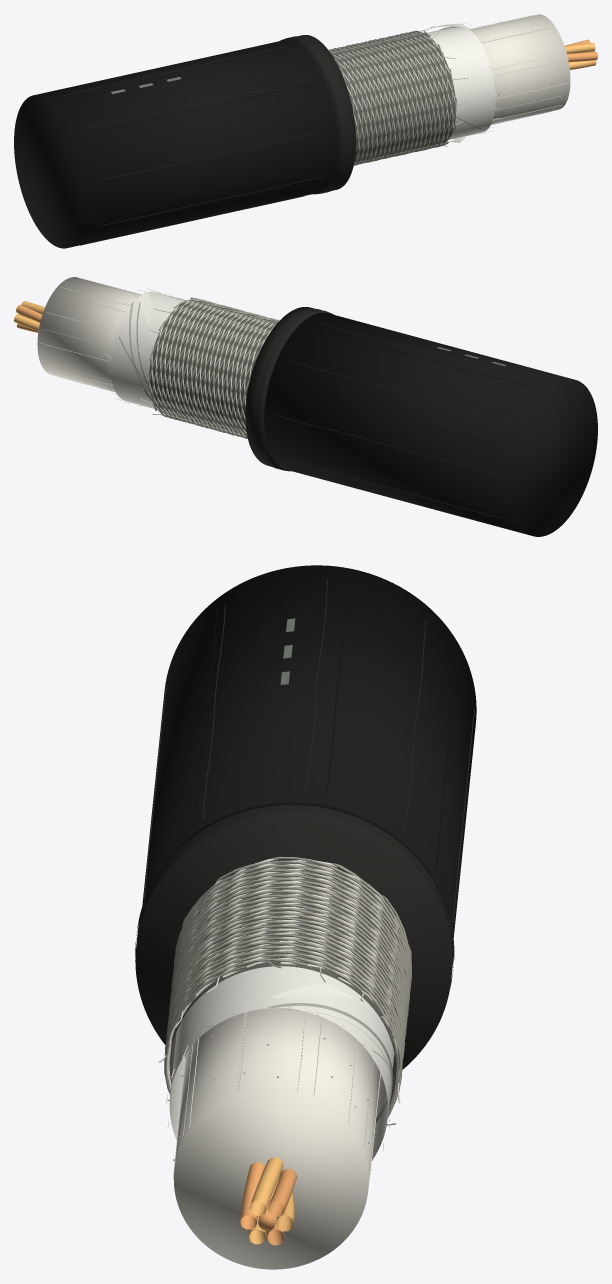
The model's file is rf-lmr240uf-macro.glb.
The picture shows the model from 3 angles, top to bottom: view 1: azimuth 30°, elevation 25°; view 2: azimuth 150°, elevation 25°; view 3: azimuth 270°, elevation 25°; orthographic projection. The views are drawn at different scales.
Visible parts, largest first — view 1: macro jacket body, macro dielectric exposed core, shadow seen through braid windows, continuous foil sleeve under braid, thick jacket cut wall, rounded jacket cut lip, macro braid shadow carrier 05 strand 1, macro braid shadow carrier 06 strand 1, macro braid shadow carrier 08 strand 1, macro braid shadow carrier 07 strand 1, macro braid shadow carrier 04 strand 1, macro braid shadow carrier 03 strand 1 (+6 smaller); view 2: macro jacket body, macro dielectric exposed core, shadow seen through braid windows, continuous foil sleeve under braid, thick jacket cut wall, rounded jacket cut lip, macro braid shadow carrier 03 strand 1, macro braid shadow carrier 02 strand 1, macro braid shadow carrier 01 strand 1, macro braid shadow carrier 12 strand 1, macro braid shadow carrier 04 strand 1, macro braid shadow carrier 05 strand 1 (+6 smaller); view 3: macro jacket body, macro dielectric exposed core, thick jacket cut wall, continuous foil sleeve under braid, shadow seen through braid windows, rounded jacket cut lip, macro braid shadow carrier 05 strand 2, macro braid shadow carrier 10 strand 2, macro braid shadow carrier 11 strand 2, macro braid shadow carrier 07 strand 2, macro braid shadow carrier 09 strand 2, macro braid shadow carrier 06 strand 2 (+7 smaller).
Part boxes in pixels (bbox=[...]): macro jacket body: bbox=[14, 40, 336, 248]; macro dielectric exposed core: bbox=[470, 14, 570, 124]; shadow seen through braid windows: bbox=[332, 33, 455, 161]; continuous foil sleeve under braid: bbox=[427, 27, 495, 139]; thick jacket cut wall: bbox=[280, 35, 355, 194]; rounded jacket cut lip: bbox=[285, 36, 347, 193]; macro braid shadow carrier 05 strand 1: bbox=[350, 32, 430, 165]; macro braid shadow carrier 06 strand 1: bbox=[355, 31, 434, 165]; macro braid shadow carrier 08 strand 1: bbox=[363, 31, 443, 163]; macro braid shadow carrier 07 strand 1: bbox=[358, 31, 439, 164]; macro braid shadow carrier 04 strand 1: bbox=[346, 33, 425, 163]; macro braid shadow carrier 03 strand 1: bbox=[342, 35, 421, 159]; macro jacket body: bbox=[264, 312, 597, 536]; macro dielectric exposed core: bbox=[37, 277, 140, 391]; shadow seen through braid windows: bbox=[149, 300, 276, 435]; continuous foil sleeve under braid: bbox=[110, 291, 184, 408]; thick jacket cut wall: bbox=[245, 307, 333, 471]; rounded jacket cut lip: bbox=[253, 308, 328, 470]; macro braid shadow carrier 03 strand 1: bbox=[157, 305, 277, 431]; macro braid shadow carrier 02 strand 1: bbox=[161, 306, 279, 432]; macro braid shadow carrier 01 strand 1: bbox=[166, 307, 278, 433]; macro braid shadow carrier 12 strand 1: bbox=[170, 308, 276, 435]; macro braid shadow carrier 04 strand 1: bbox=[152, 304, 274, 430]; macro braid shadow carrier 05 strand 1: bbox=[148, 302, 269, 428]; macro jacket body: bbox=[142, 565, 476, 937]; macro dielectric exposed core: bbox=[174, 1008, 379, 1269]; thick jacket cut wall: bbox=[135, 802, 453, 1069]; continuous foil sleeve under braid: bbox=[169, 966, 394, 1160]; shadow seen through braid windows: bbox=[169, 862, 397, 1105]; rounded jacket cut lip: bbox=[135, 805, 454, 986]; macro braid shadow carrier 05 strand 2: bbox=[167, 894, 411, 1090]; macro braid shadow carrier 10 strand 2: bbox=[166, 865, 409, 1048]; macro braid shadow carrier 11 strand 2: bbox=[165, 869, 409, 1094]; macro braid shadow carrier 07 strand 2: bbox=[168, 863, 411, 1030]; macro braid shadow carrier 09 strand 2: bbox=[165, 860, 409, 1050]; macro braid shadow carrier 06 strand 2: bbox=[170, 895, 411, 1036].
Size of the model in its own units: 6.47 by 1.68 by 1.79.
